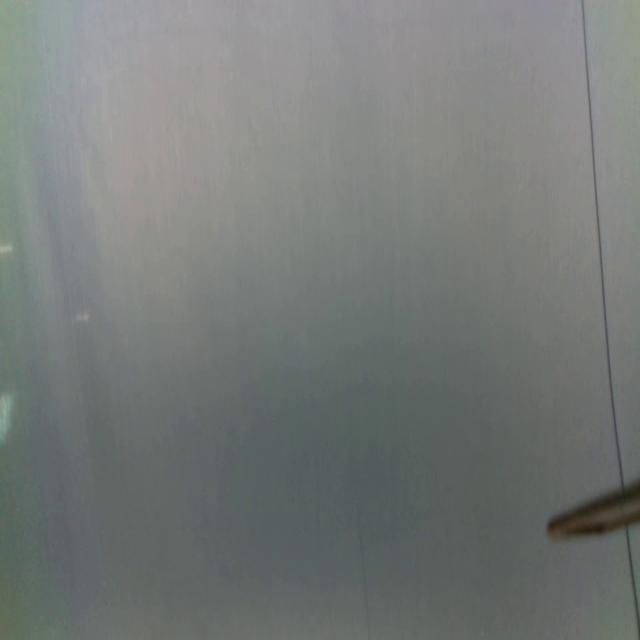crease: (581, 0, 625, 486), (625, 528, 640, 637)
